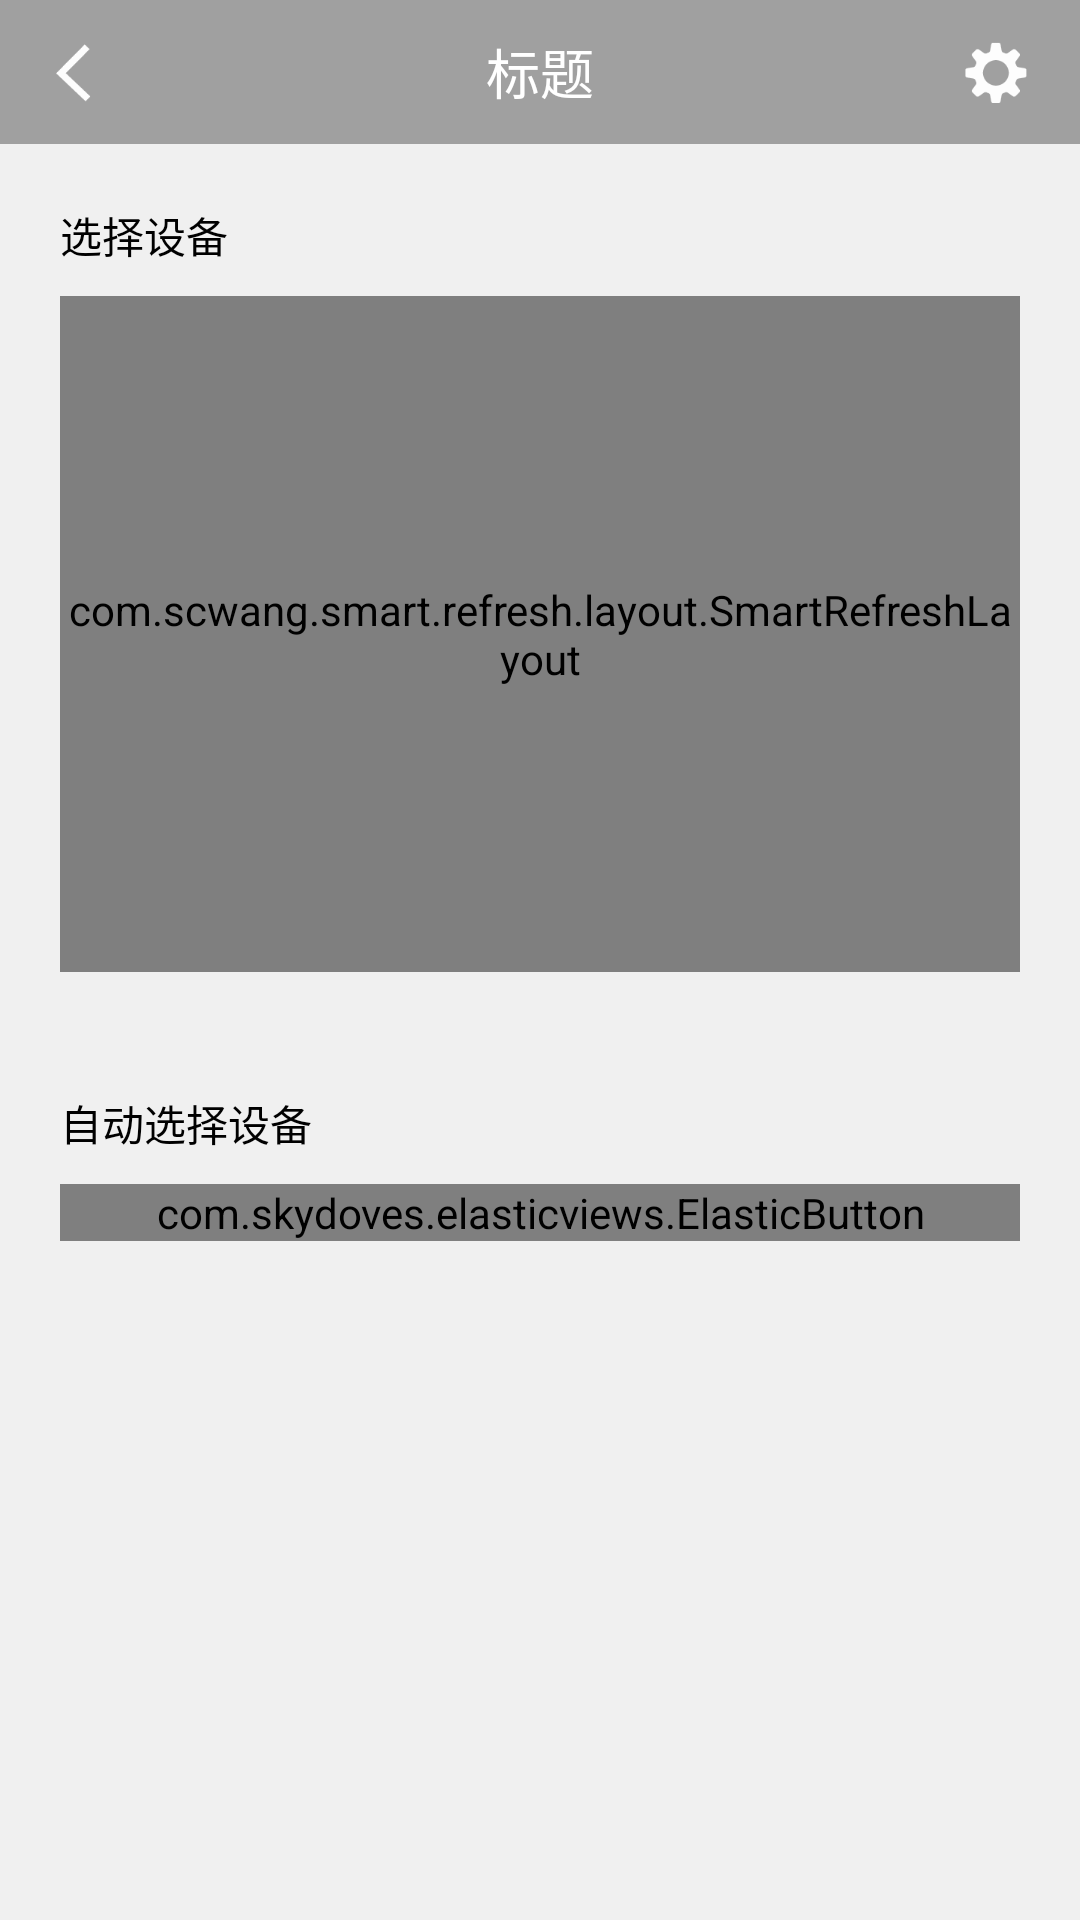

Screen size 1080px×1920px. Icon name, then its box in pixels as (x1, y1, x2, y2):
back: (56, 44, 90, 101)
